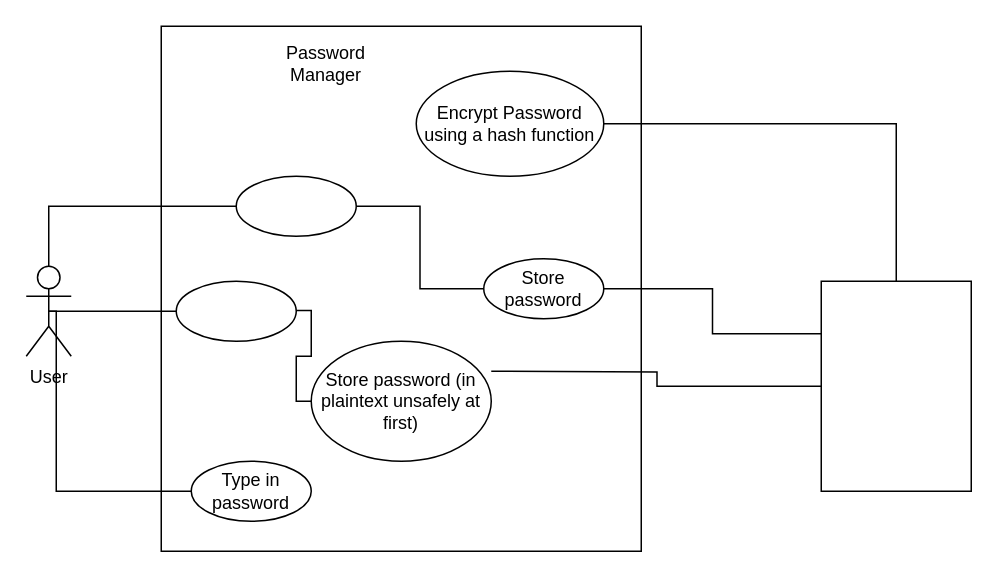
Some shapes in this 998 by 578 pixel diagram are drawn without their labels. The centre of each missing label's shape, as x and y in pixels:
Make account: the point at 295,205
Make password: the point at 235,310
Password database: the point at 895,385
